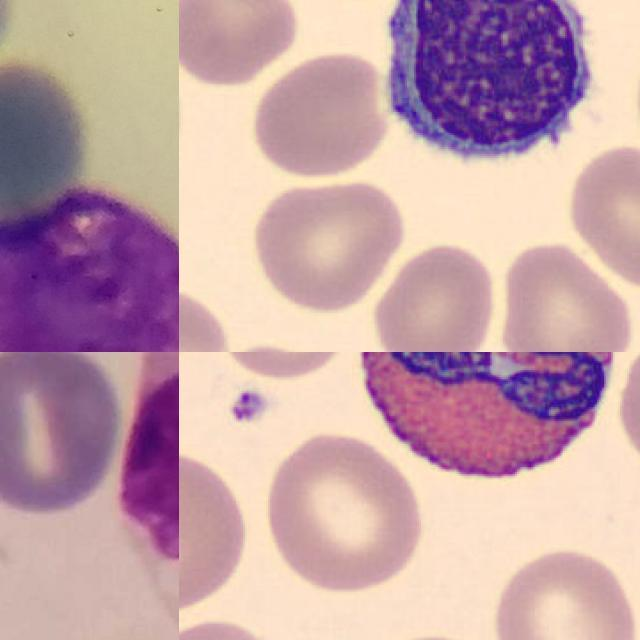Basophil: (0, 188, 179, 352)
Eosinophil: (340, 352, 625, 511)
Lymphocyte: (366, 0, 609, 180)
Monocyte: (117, 352, 179, 640)
RBC: (257, 425, 430, 596), (247, 176, 409, 312), (245, 47, 393, 179), (492, 239, 636, 352), (367, 237, 499, 352), (486, 542, 640, 640), (179, 438, 252, 622), (561, 141, 640, 288), (179, 0, 304, 87), (179, 281, 240, 352), (179, 615, 286, 640), (344, 629, 513, 640), (206, 339, 337, 352)
